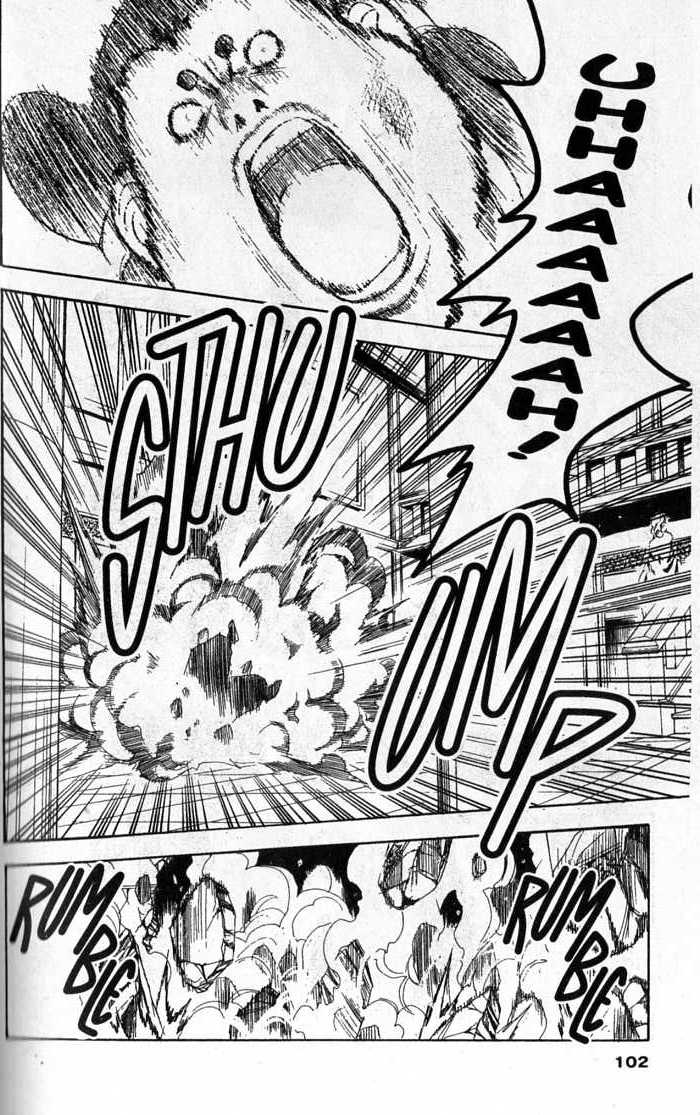Baloon: (399, 1, 700, 576)
Vignetta: (3, 291, 694, 843), (1, 1, 532, 335), (1, 820, 650, 1040)
